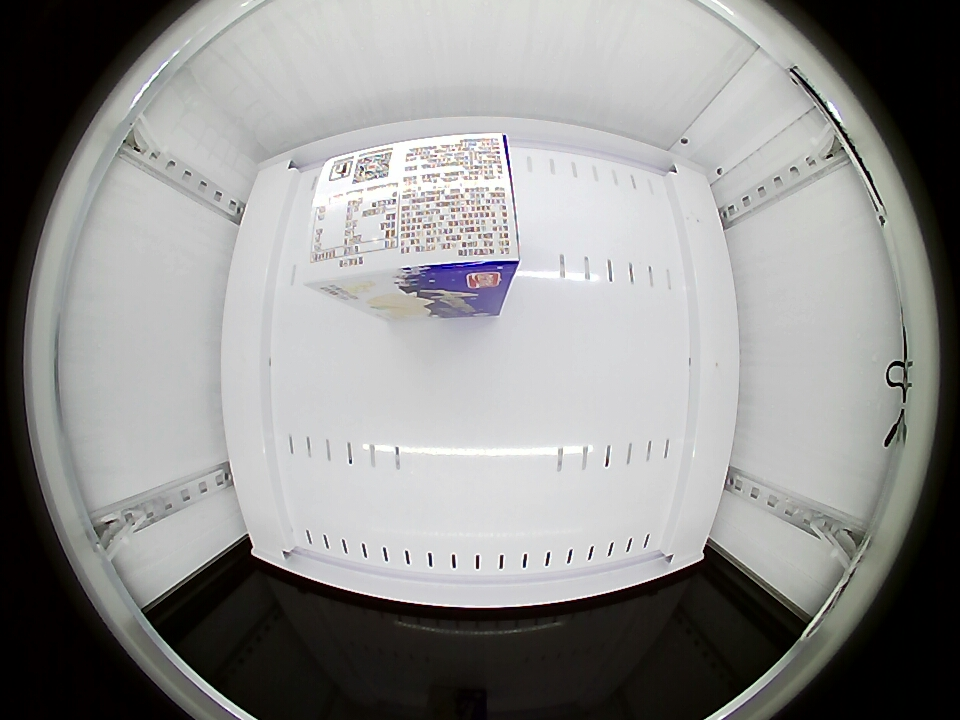meiniye: (298, 133, 521, 299)
